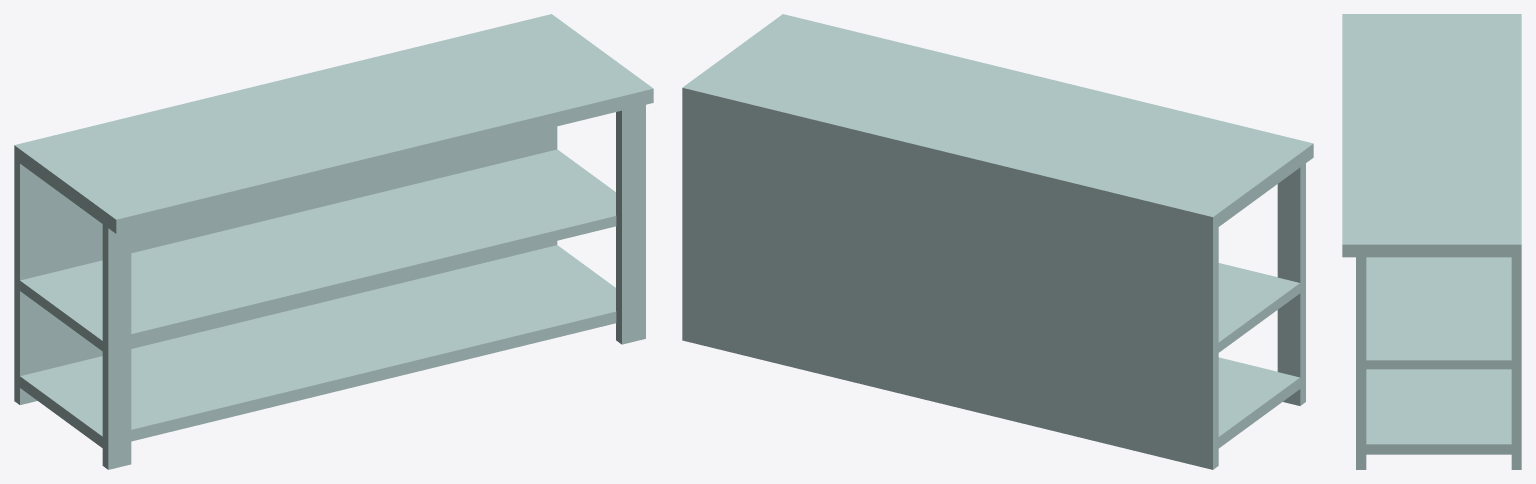
The model's file is CounterLong02Blue.fbx.
3 views of the same model, side by side, from view 1: azimuth 30°, elevation 25°; view 2: azimuth 150°, elevation 25°; view 3: azimuth 270°, elevation 25° (orthographic). The views are drawn at different scales.
Parts seen in each view (by area): view 1: pasted__pCube2; view 2: pasted__pCube2; view 3: pasted__pCube2.
Part boxes in pixels (bbox=[...]): pasted__pCube2: bbox=[14, 14, 653, 469]; pasted__pCube2: bbox=[682, 14, 1313, 469]; pasted__pCube2: bbox=[1342, 14, 1521, 469].
Bounding box in the file's own units: 1978 × 900 × 650.
